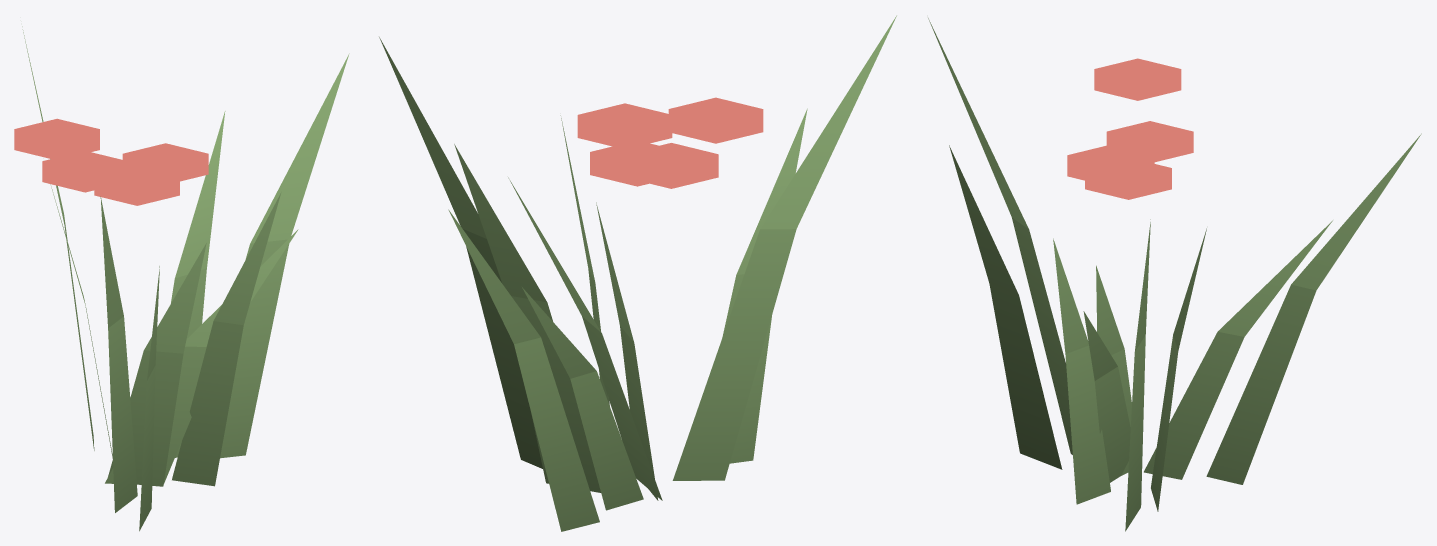
File: flower_red.glb
3 views of the same model, side by side, from view 1: azimuth 30°, elevation 25°; view 2: azimuth 150°, elevation 25°; view 3: azimuth 270°, elevation 25° (orthographic). The views are drawn at different scales.
Parts seen in each view (by area): view 1: flower_red; view 2: flower_red; view 3: flower_red.
Boxes of the visible parts, x1,y1,x2,y2 form: flower_red: (14, 26, 349, 531); flower_red: (379, 15, 896, 531); flower_red: (928, 18, 1421, 531).
Size of the model in its own units: 0.4196 by 0.436 by 0.4933.
